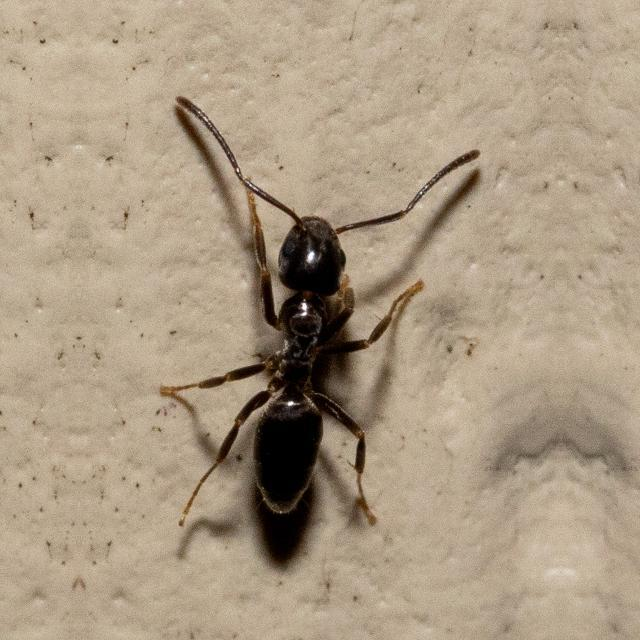Tapinoma: (190, 152, 402, 574)
